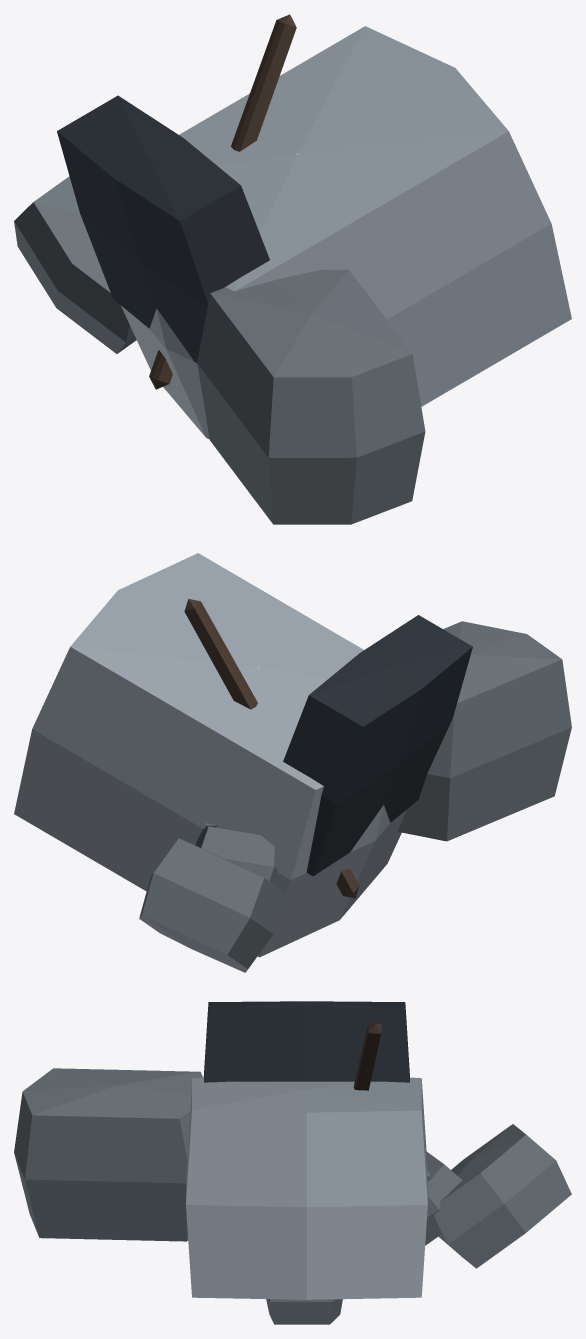
Rendered from r-broken-ac.glb.
3 renders of one model, top to bottom at view 1: azimuth 30°, elevation 25°; view 2: azimuth 150°, elevation 25°; view 3: azimuth 270°, elevation 25°, orthographic. The views are drawn at different scales.
Visible parts, largest first — view 1: p; view 2: p; view 3: p.
Part boxes in pixels (bbox=[...]): p: bbox=[14, 14, 571, 524]; p: bbox=[14, 553, 571, 972]; p: bbox=[14, 1001, 571, 1324].
Size of the model in its own units: 1.07 by 0.8986 by 1.57.
